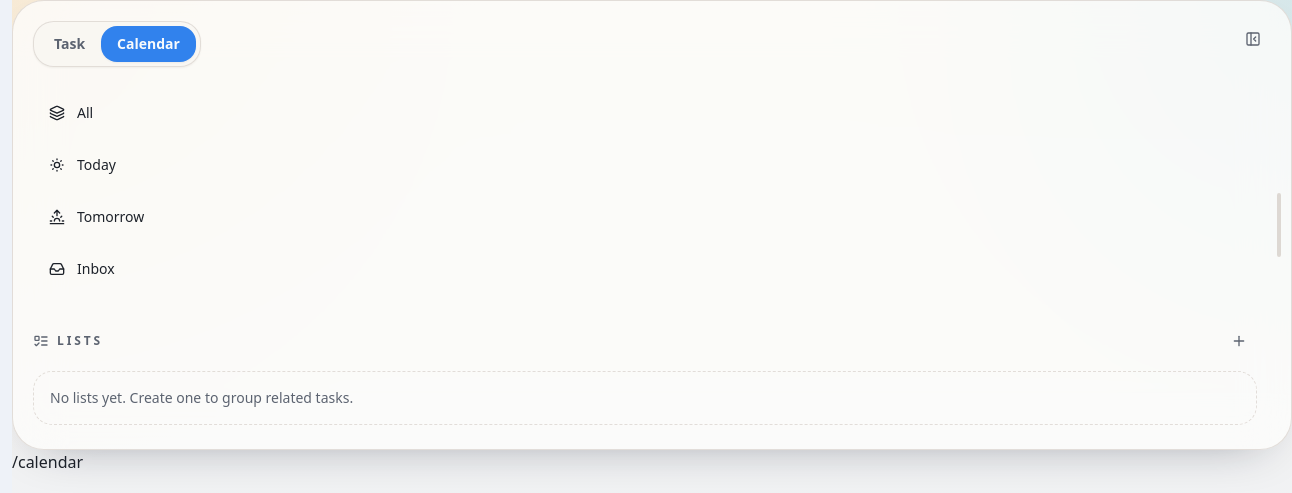
Scenario: Sidebar task and calendar switch › navigates between calendar and the last task route
The image size is (1292, 493).
Expected: the text with test id "pathname" reads "/calendar", [12,451,83,473]
Click the link "Task" at point(70, 44), box [54,34,85,53]
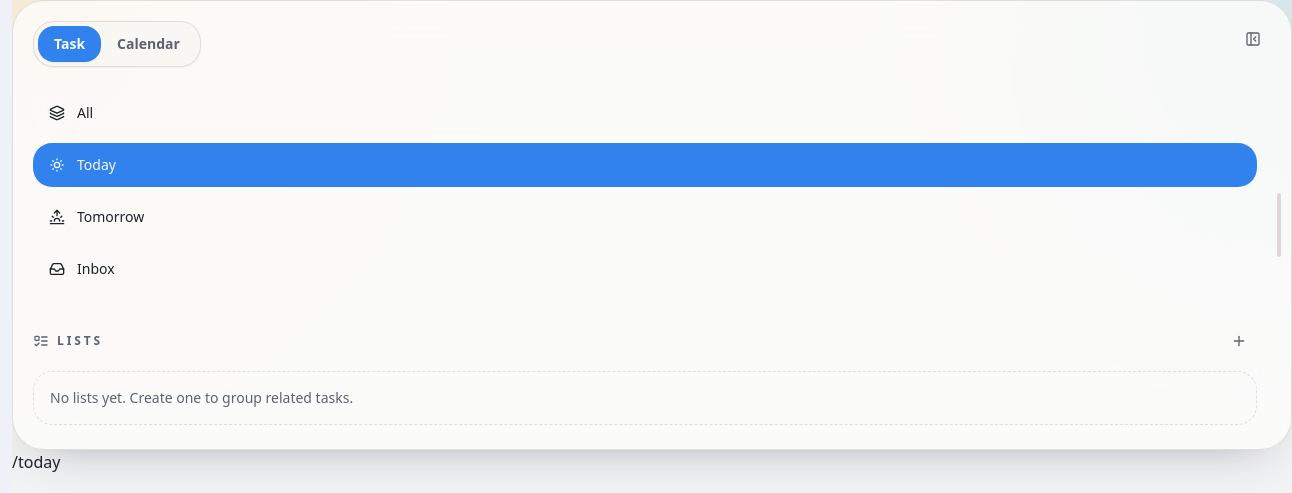
Expected: the text with test id "pathname" reads "/today", [12,451,60,473]
Click the link "Calendar" at point(148, 44), box [117,34,180,53]
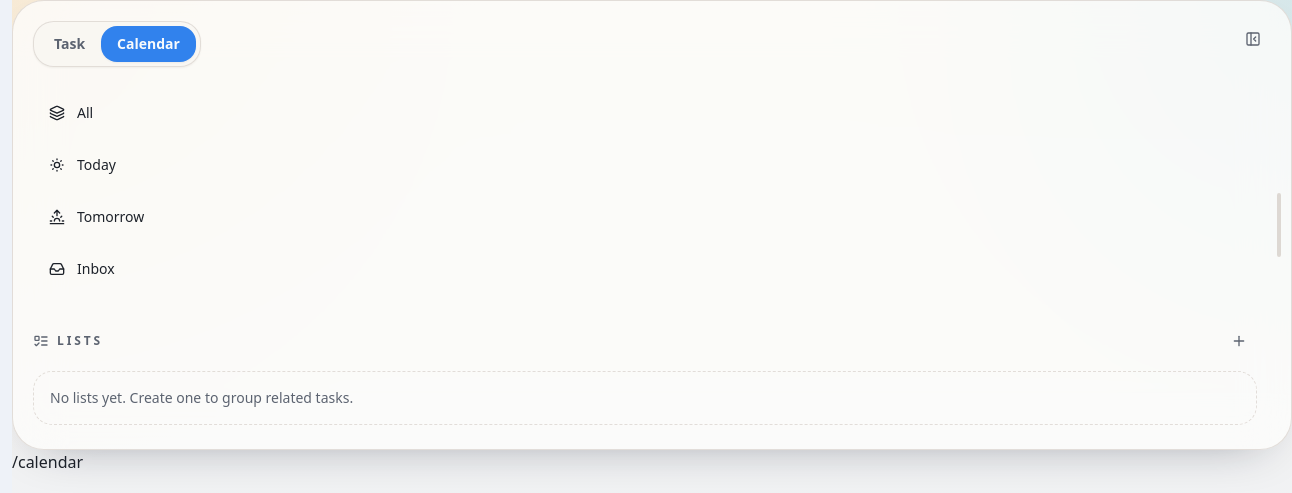
Expected: the text with test id "pathname" reads "/calendar", [12,451,83,473]
